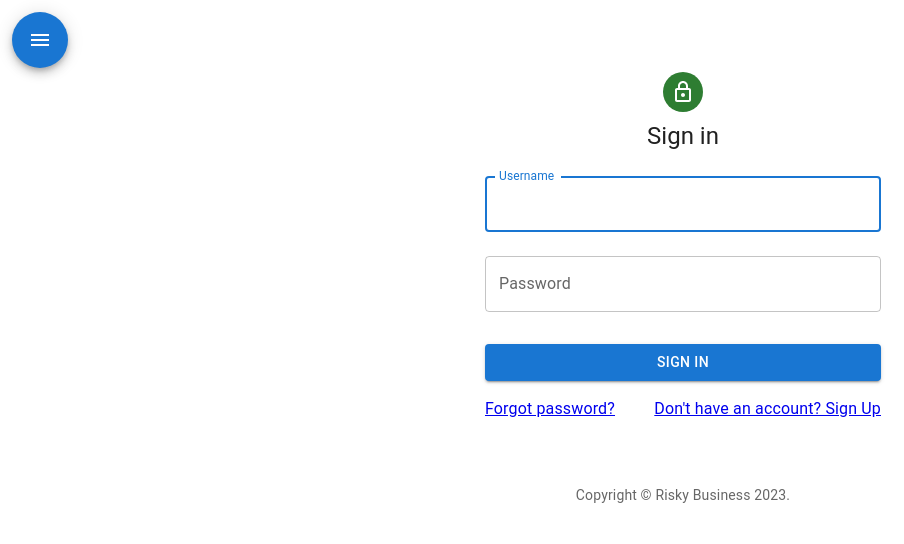
Test case: Login to the page (assuming the backend runs and has correct test data) › Should give error message, when using wrong credentials
The width and height of the screenshot is (904, 544).
Type "KdgUser1" into the field with id "username" at coordinates (683, 204), box [485,176,881,232]
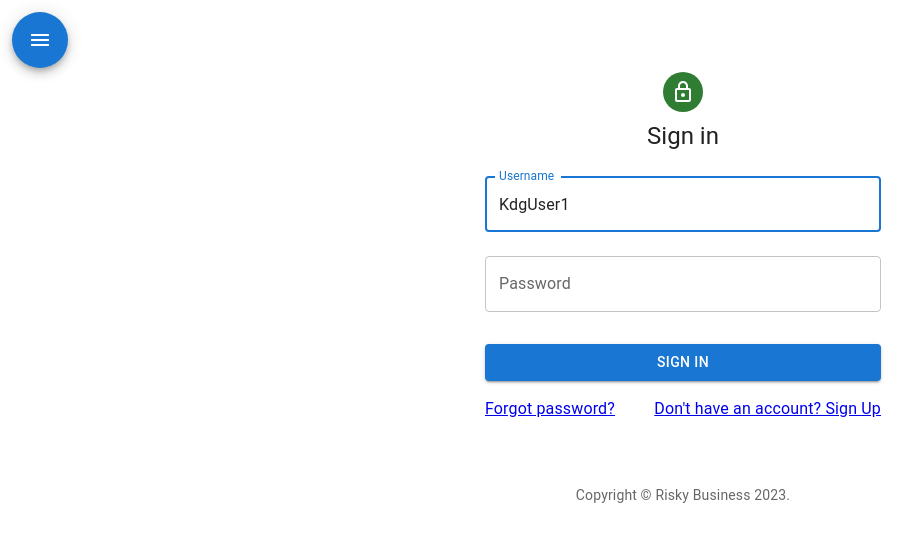
Type "passw" into the password field labelled "Password" at coordinates (683, 284), box [485,256,881,312]
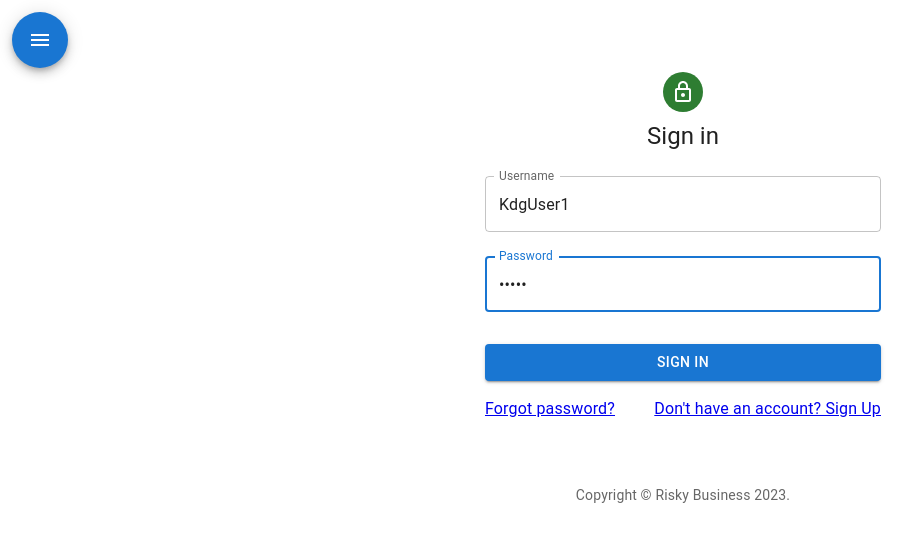
Click the button "Sign In" at coordinates (683, 363), box [485,344,881,381]
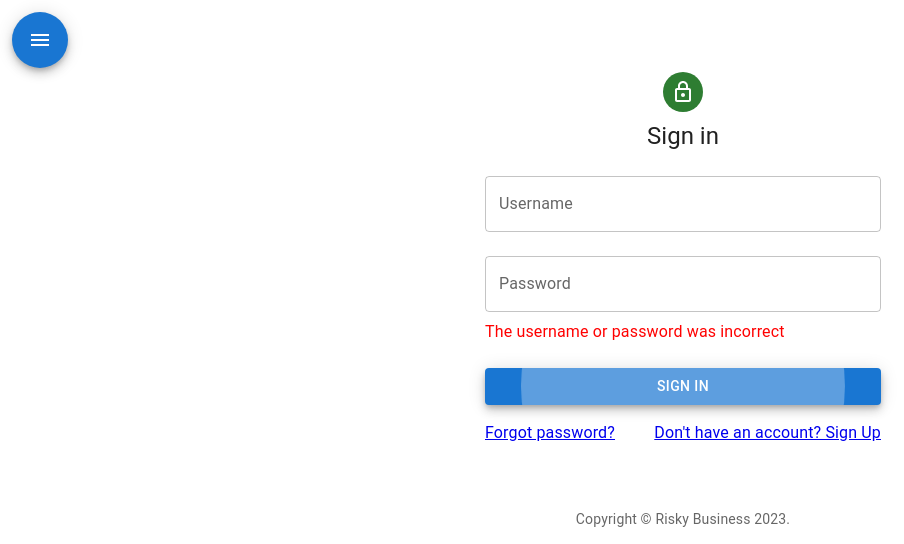
Now the text "The username or password was incorrect" is shown, box [485,322,785,341]
